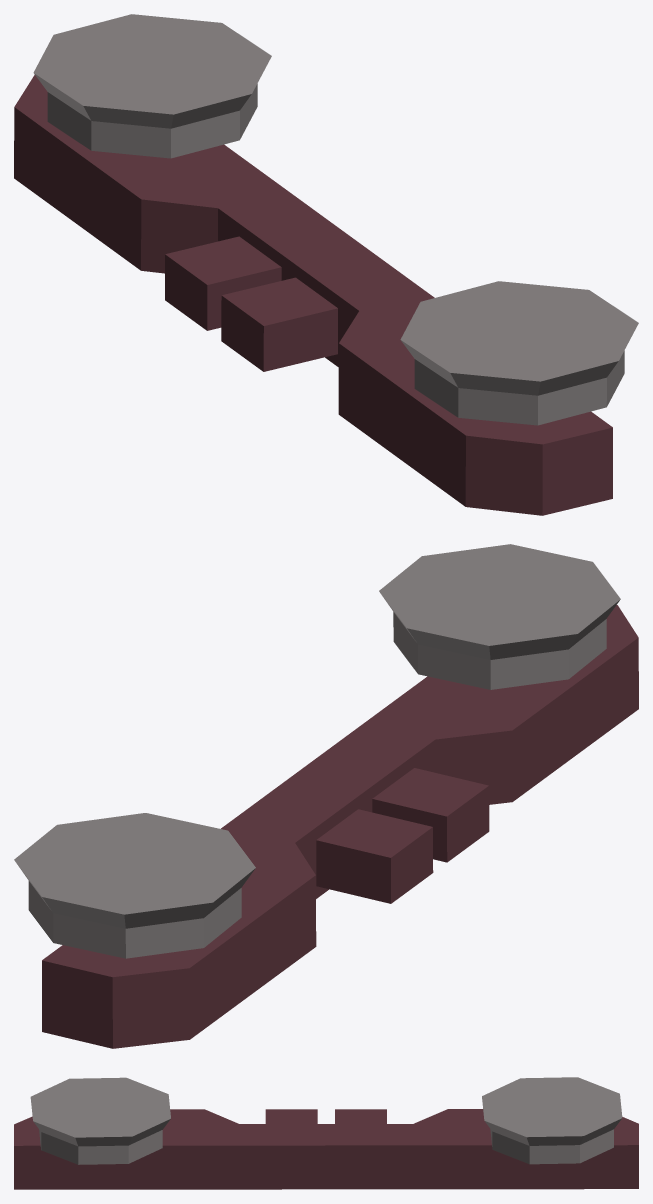
Rendered from train-wheels-apocalypse-b.fbx.
3 views of the same model, one above another, from view 1: azimuth 30°, elevation 25°; view 2: azimuth 150°, elevation 25°; view 3: azimuth 270°, elevation 25° (orthographic). The views are drawn at different scales.
Visible parts, largest first — view 1: train-wheels-apocalypse-b; view 2: train-wheels-apocalypse-b; view 3: train-wheels-apocalypse-b.
Part boxes in pixels (x1,y1,x2,y2): train-wheels-apocalypse-b: (14, 14, 638, 515); train-wheels-apocalypse-b: (14, 544, 638, 1048); train-wheels-apocalypse-b: (14, 1077, 638, 1189).
Bounding box in the file's own units: 0.9112 × 0.4798 × 3.6.
